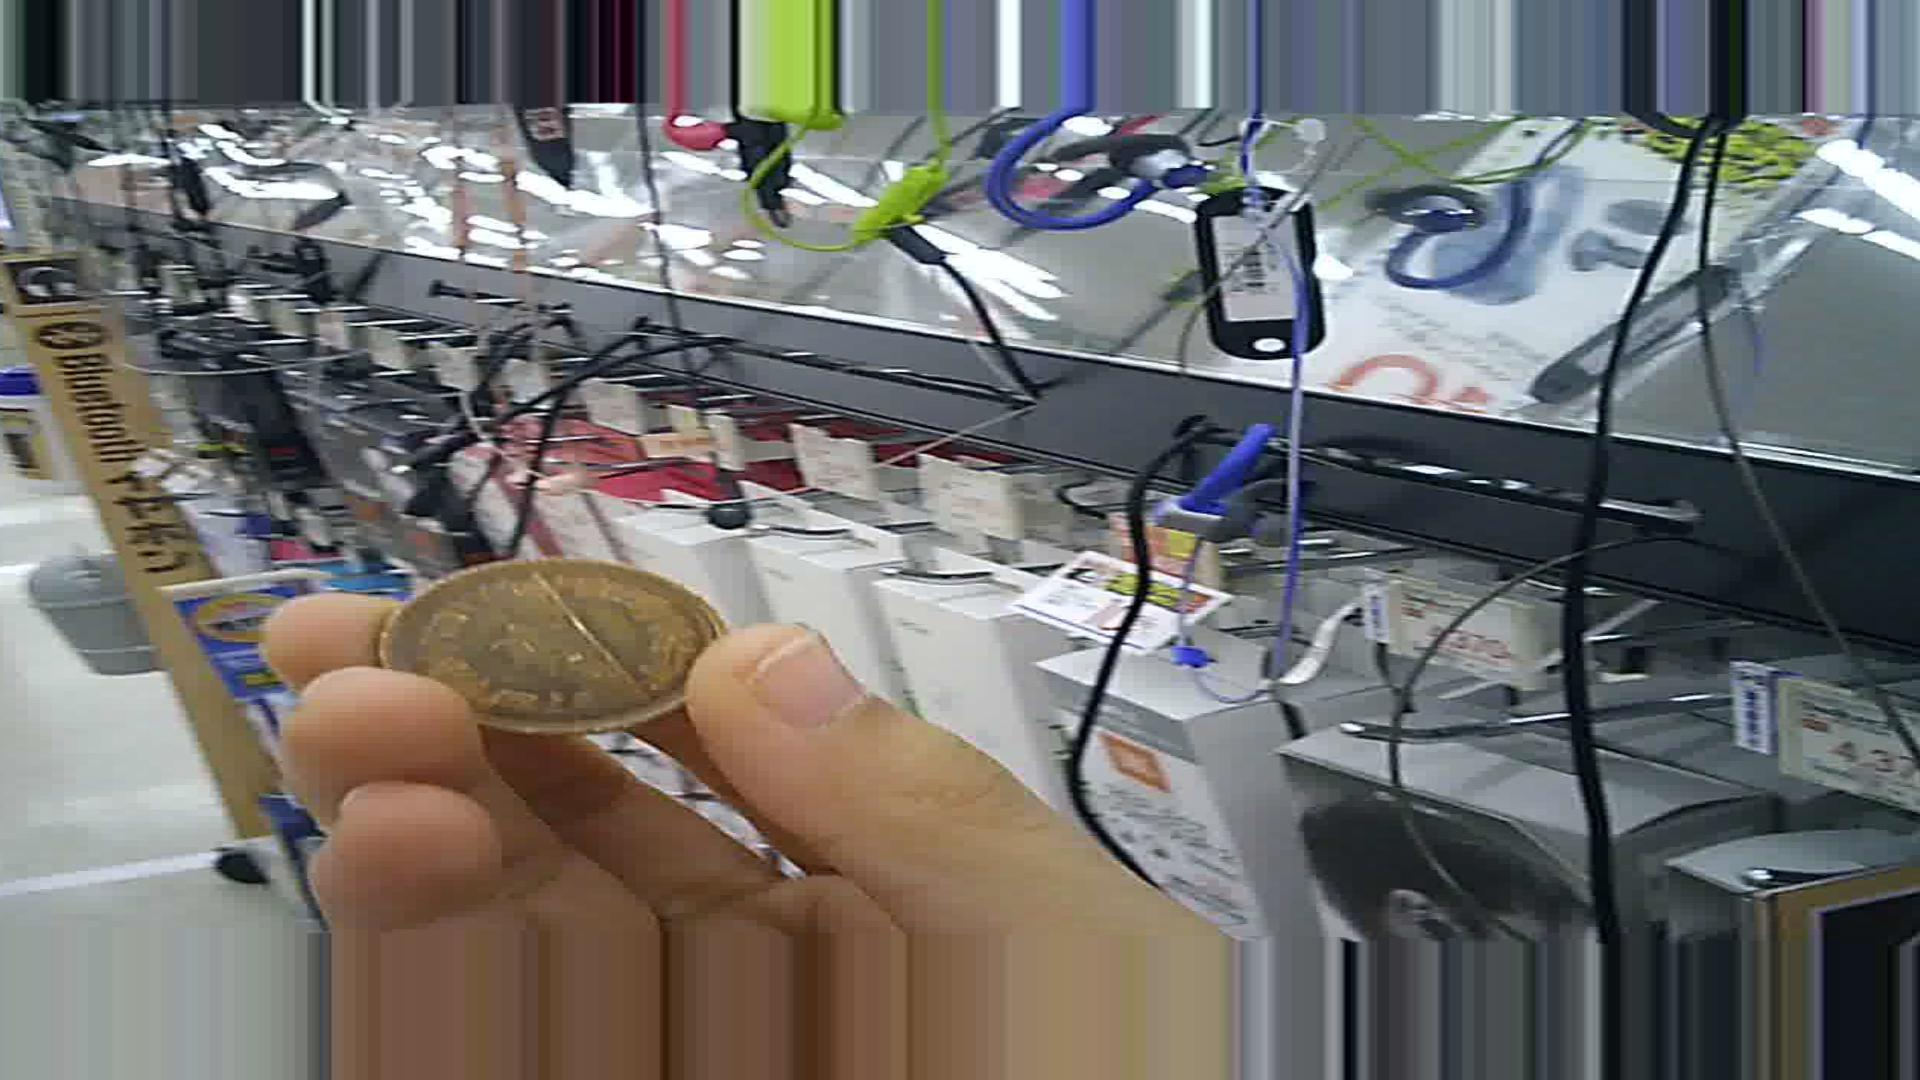10 Yen: (373, 564, 713, 725)
